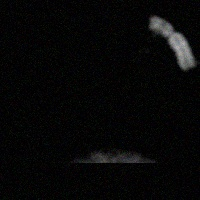chromosome: (148, 15, 195, 68)
